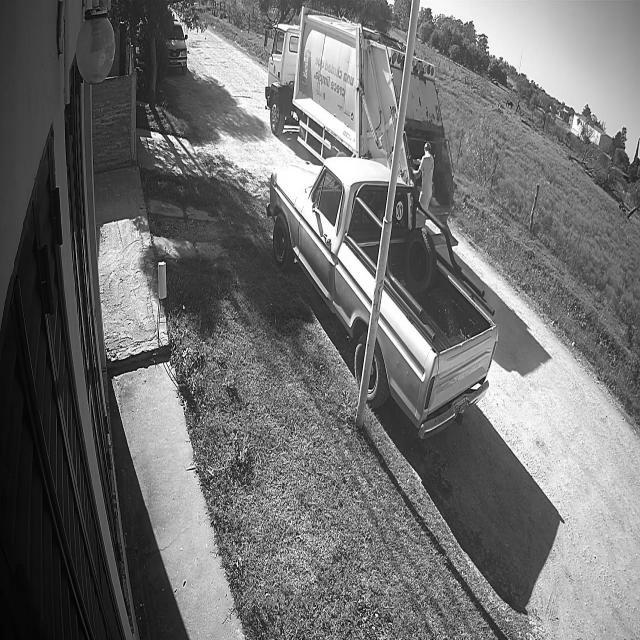Garbage Truck: (260, 7, 405, 169), (398, 57, 458, 247)
